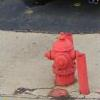a fire hydrant: (49, 35, 88, 94)
